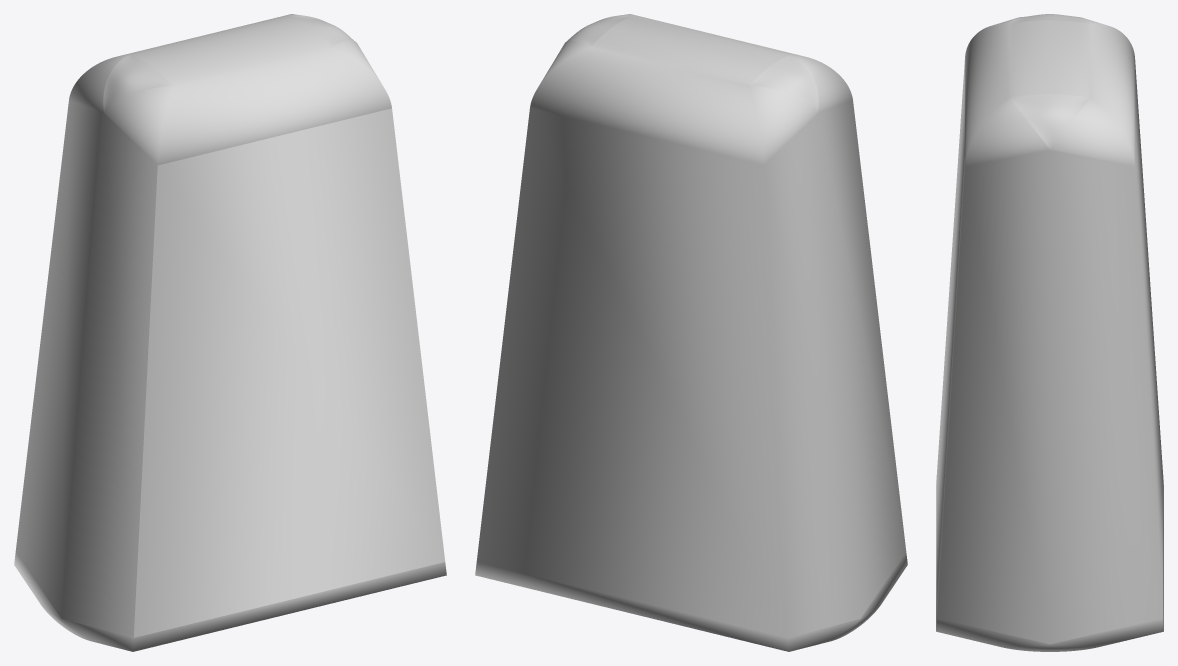
The model's file is campana-cromada-v1-abierta.glb.
The picture shows the model from 3 angles, left to right: view 1: azimuth 30°, elevation 25°; view 2: azimuth 150°, elevation 25°; view 3: azimuth 270°, elevation 25°; orthographic projection. The views are drawn at different scales.
Visible parts, largest first — view 1: campana v2.003; view 2: campana v2.003; view 3: campana v2.003.
Boxes of the visible parts, x1,y1,x2,y2 form: campana v2.003: (14, 14, 446, 651); campana v2.003: (475, 14, 907, 651); campana v2.003: (936, 14, 1163, 651).
Bounding box in the file's own units: 0.1226 × 0.1871 × 0.0747.
Materials: 2 (1 with a texture image).
